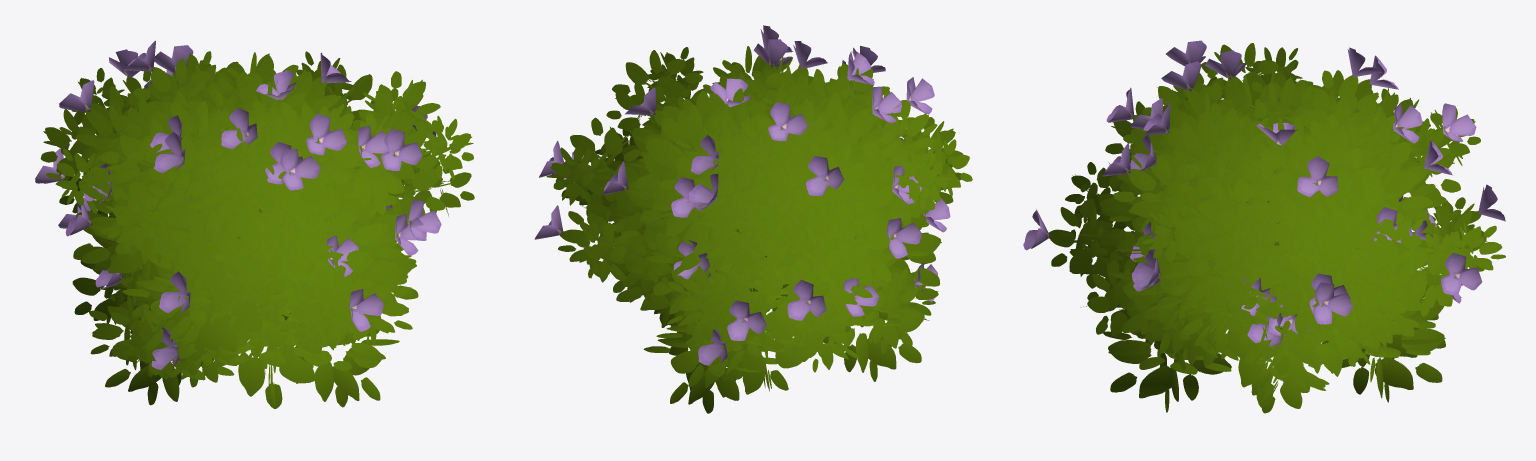
The model's file is bush-common-flowers.glb.
The picture shows the model from 3 angles, left to right: view 1: azimuth 30°, elevation 25°; view 2: azimuth 150°, elevation 25°; view 3: azimuth 270°, elevation 25°; orthographic projection. The views are drawn at different scales.
Parts seen in each view (by area): view 1: Bush_Common_Flowers; view 2: Bush_Common_Flowers; view 3: Bush_Common_Flowers.
Part boxes in pixels (<box>): Bush_Common_Flowers: <box>35,40,474,408</box>; Bush_Common_Flowers: <box>534,25,972,413</box>; Bush_Common_Flowers: <box>1023,40,1505,413</box>.
Bounding box in the file's own units: 1.91 × 1.58 × 1.97.
Materials: 2 (2 with a texture image).
